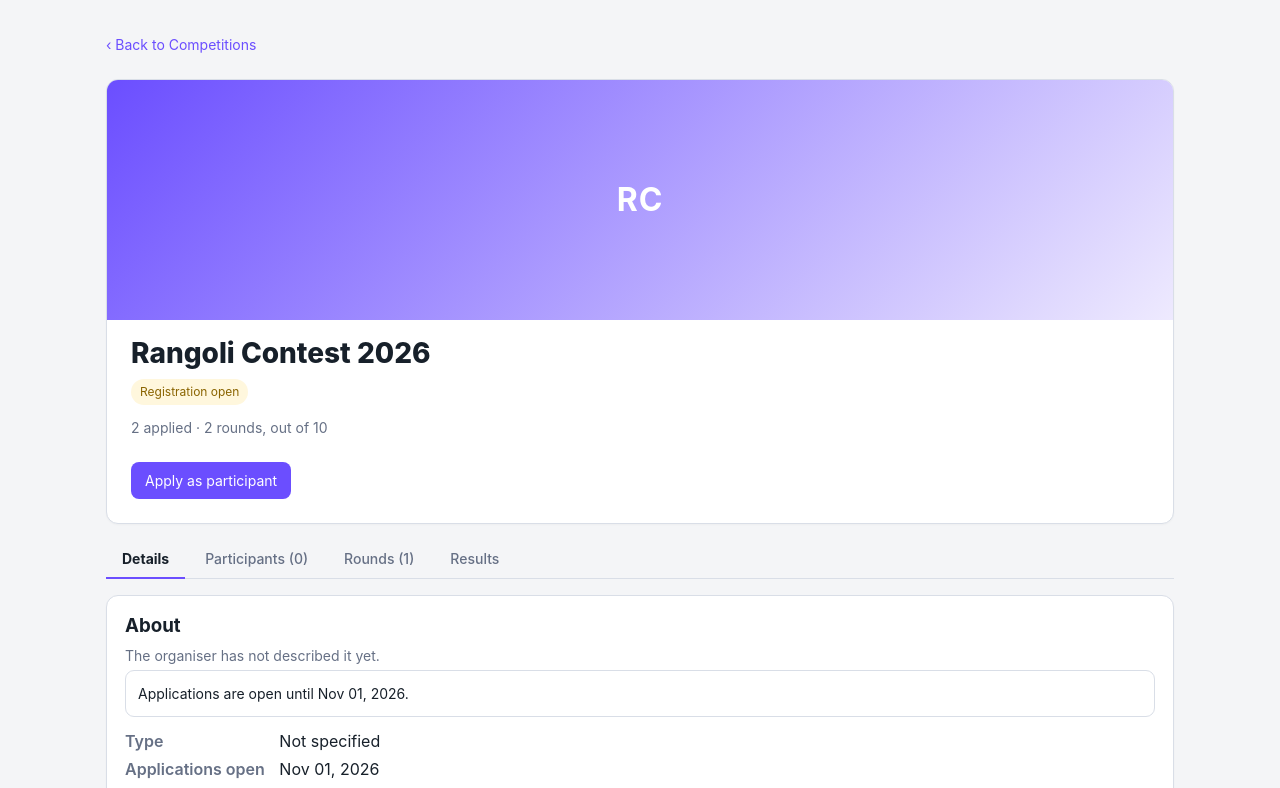
Scenario: CompetitionDetailComponent › does not ask for the winners before the detail says they are published
Click the tab "Results": {"x": 475, "y": 560} [434,540,515,579]
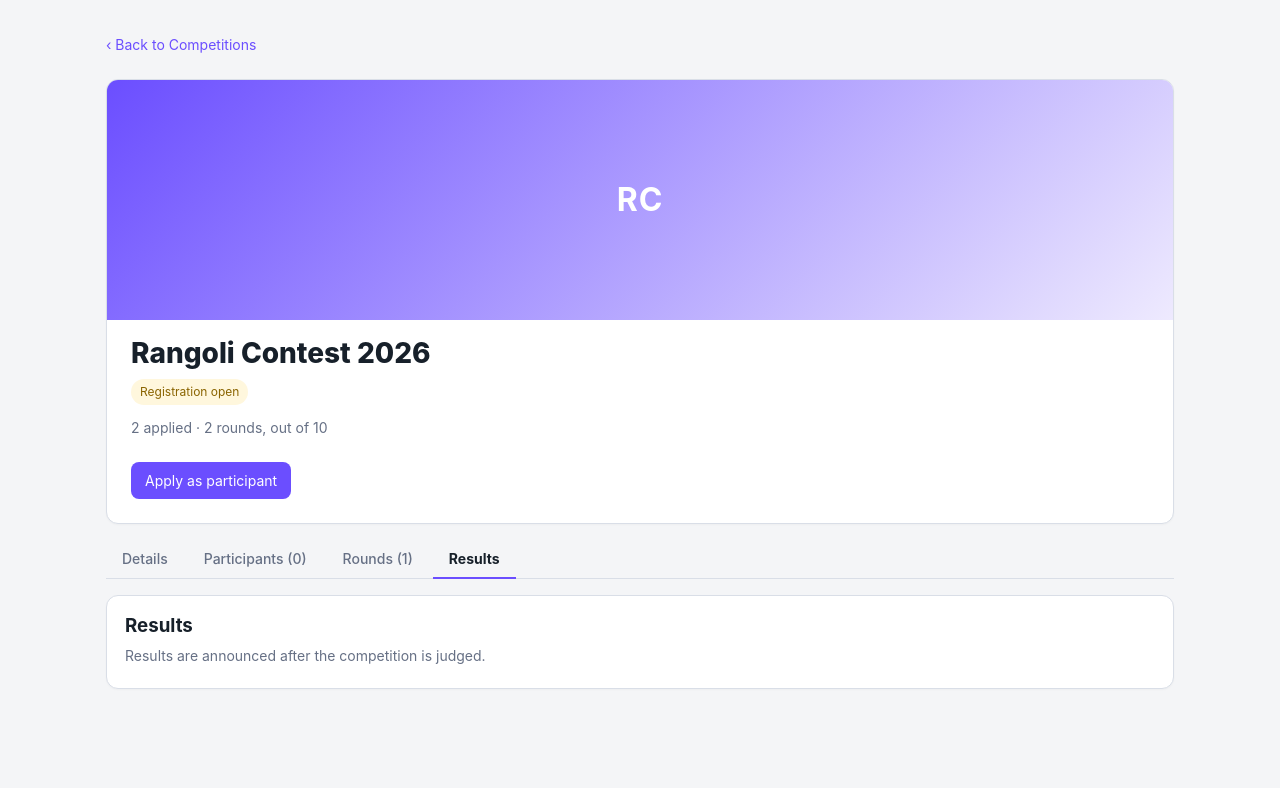
Now the text "Results are announced after the competition is judged" is shown, box [125,647,486,664]
